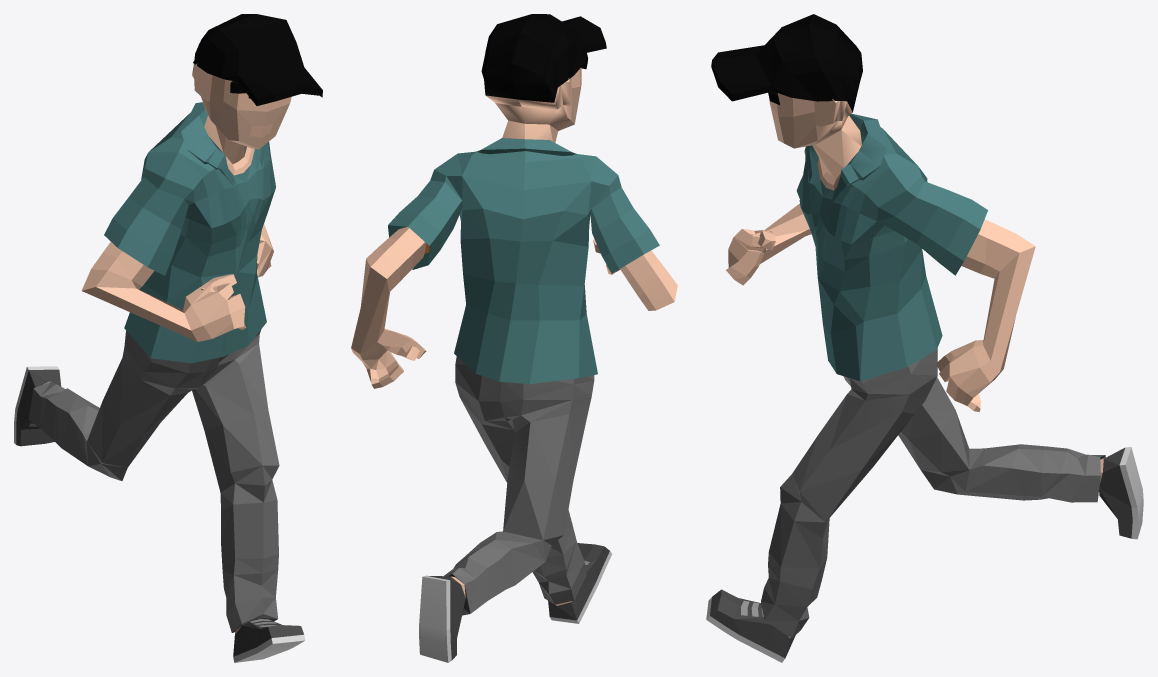
The model's file is Player.glb.
3 renders of one model, left to right at view 1: azimuth 30°, elevation 25°; view 2: azimuth 150°, elevation 25°; view 3: azimuth 270°, elevation 25°, orthographic. The views are drawn at different scales.
Parts seen in each view (by area): view 1: SK_Character_Son_01; view 2: SK_Character_Son_01; view 3: SK_Character_Son_01.
Part boxes in pixels (x1,y1,x2,y2): SK_Character_Son_01: (14, 14, 322, 662); SK_Character_Son_01: (351, 14, 677, 662); SK_Character_Son_01: (706, 14, 1143, 662).
Bounding box in the file's own units: 0.7463 × 1.76 × 1.09.
Materials: 1 (1 with a texture image).
